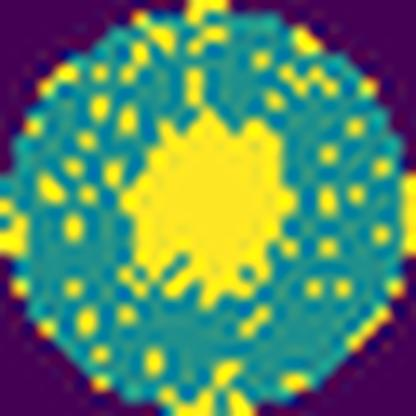Center: (117, 101, 302, 314)
